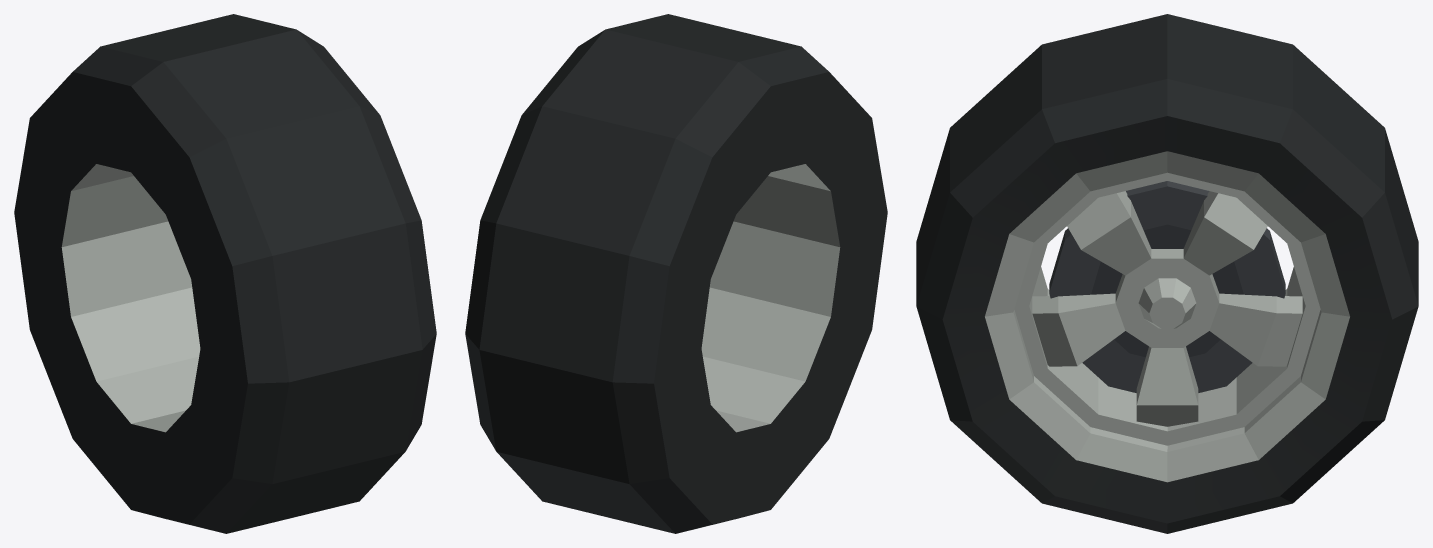
The model's file is SM_Veh_Car_Muscle_Wheel_fl.obj.
The picture shows the model from 3 angles, left to right: view 1: azimuth 30°, elevation 25°; view 2: azimuth 150°, elevation 25°; view 3: azimuth 270°, elevation 25°; orthographic projection.
Visible parts, largest first — view 1: SM_Veh_Car_Muscle_Wheel_fl_0; view 2: SM_Veh_Car_Muscle_Wheel_fl_0; view 3: SM_Veh_Car_Muscle_Wheel_fl_0.
Part boxes in pixels (x1,y1,x2,y2): SM_Veh_Car_Muscle_Wheel_fl_0: (14,14,436,533); SM_Veh_Car_Muscle_Wheel_fl_0: (465,14,887,533); SM_Veh_Car_Muscle_Wheel_fl_0: (916,14,1418,533).
Bounding box in the file's own units: 0.3106 × 0.7023 × 0.7023.
Materials: 1 (1 with a texture image).
